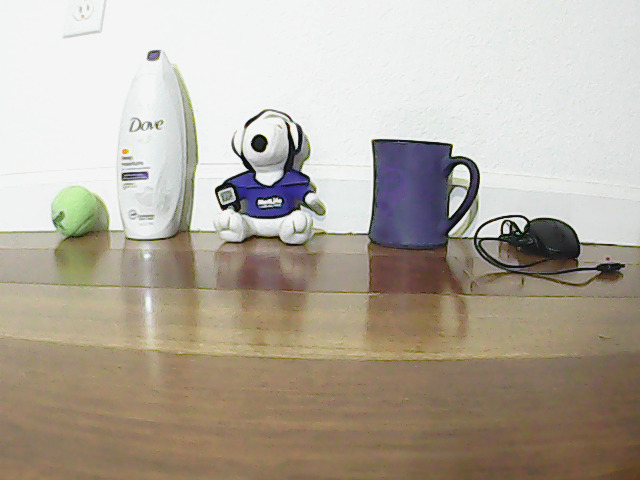ball: (52, 169, 105, 243)
mouse: (503, 203, 583, 260)
mug: (358, 122, 482, 248)
snoopy: (220, 102, 324, 243)
soap: (123, 43, 187, 241)
